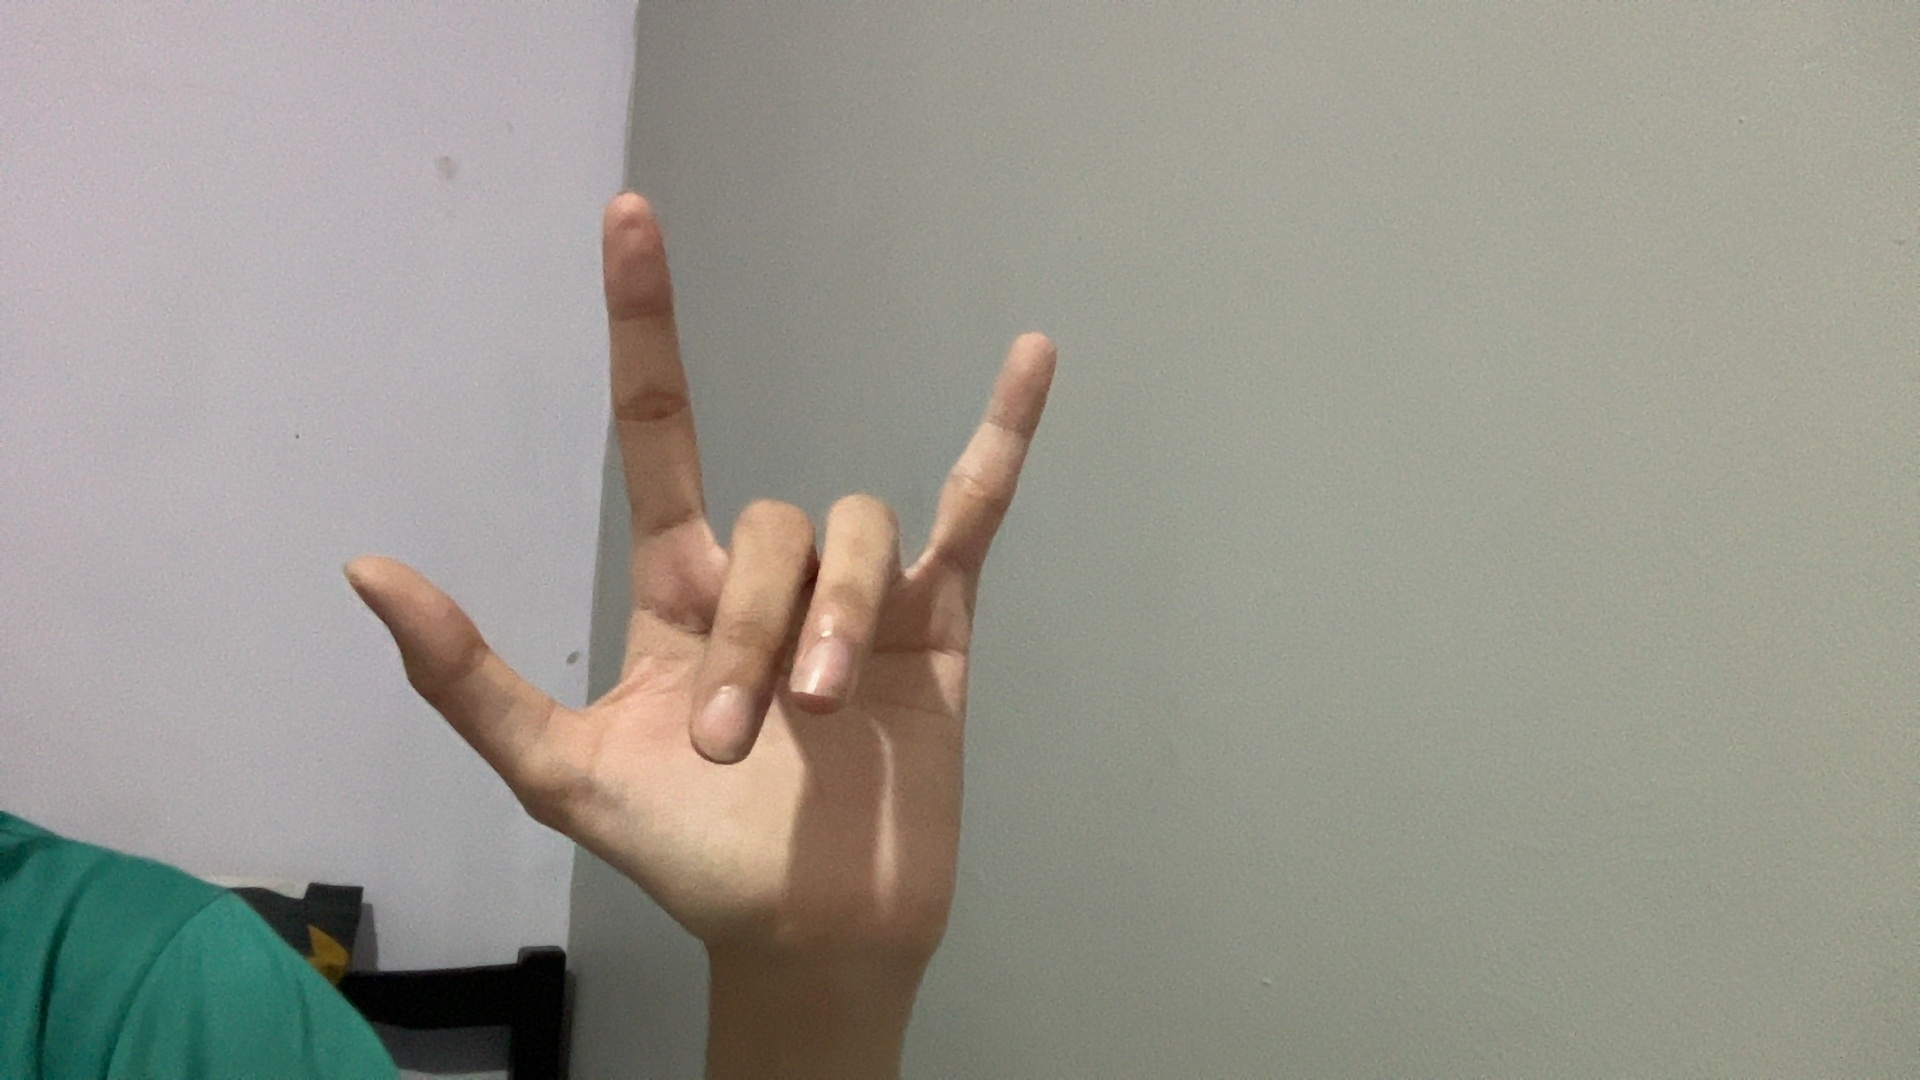I Love You: (240, 196, 1211, 1013)
